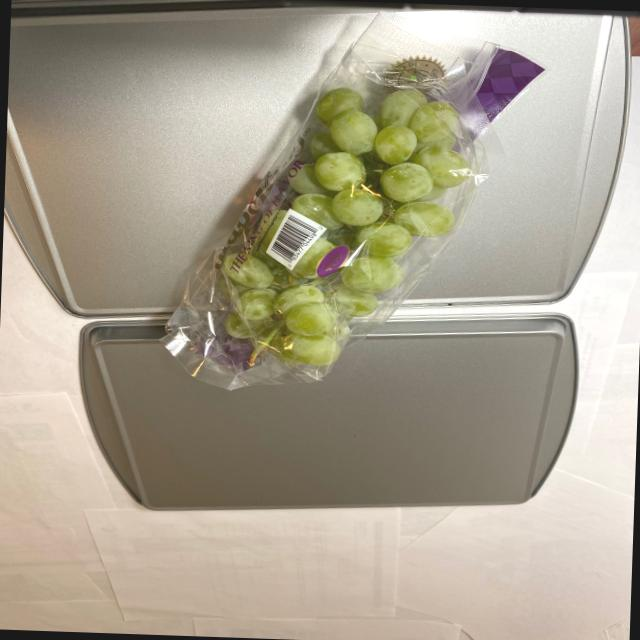grapes: (198, 65, 478, 378)
